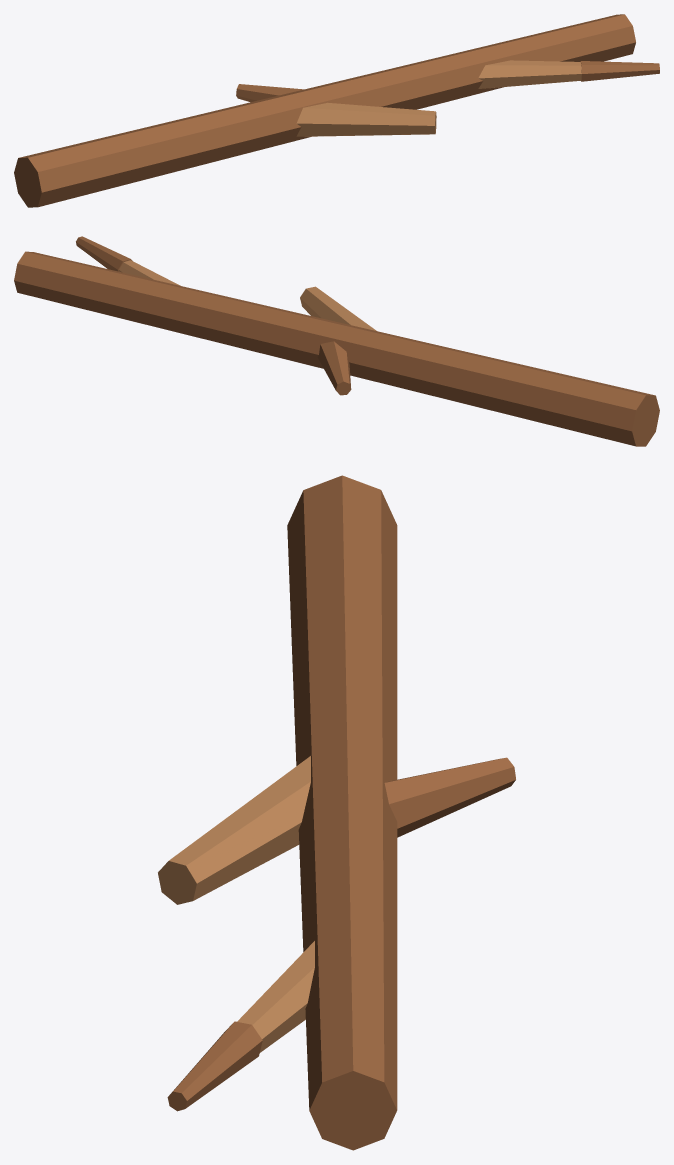
File: palo.fbx
3 views of the same model, one above another, from view 1: azimuth 30°, elevation 25°; view 2: azimuth 150°, elevation 25°; view 3: azimuth 270°, elevation 25° (orthographic). The views are drawn at different scales.
Visible parts, largest first — view 1: 02_rama_lowpoly; view 2: 02_rama_lowpoly; view 3: 02_rama_lowpoly.
Part boxes in pixels (box(x1,y1,x2,y2)): 02_rama_lowpoly: box(14, 14, 659, 207); 02_rama_lowpoly: box(14, 236, 659, 446); 02_rama_lowpoly: box(158, 475, 515, 1150).
Bounding box in the file's own units: 630 × 50 × 163.
